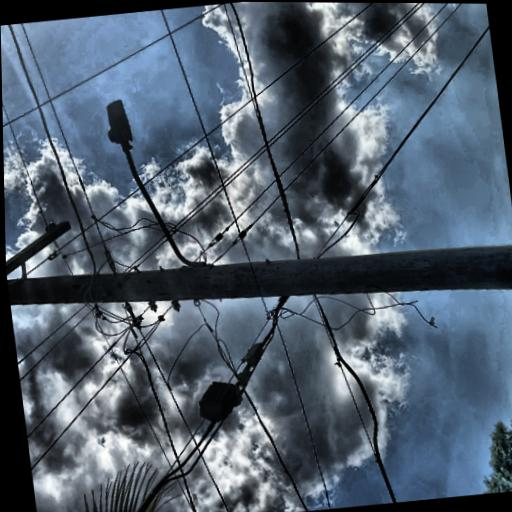insulator: (211, 6, 226, 22), (180, 175, 195, 191), (37, 109, 51, 124), (91, 78, 105, 93)
pole: (48, 45, 191, 512)
street light: (144, 246, 319, 365)
